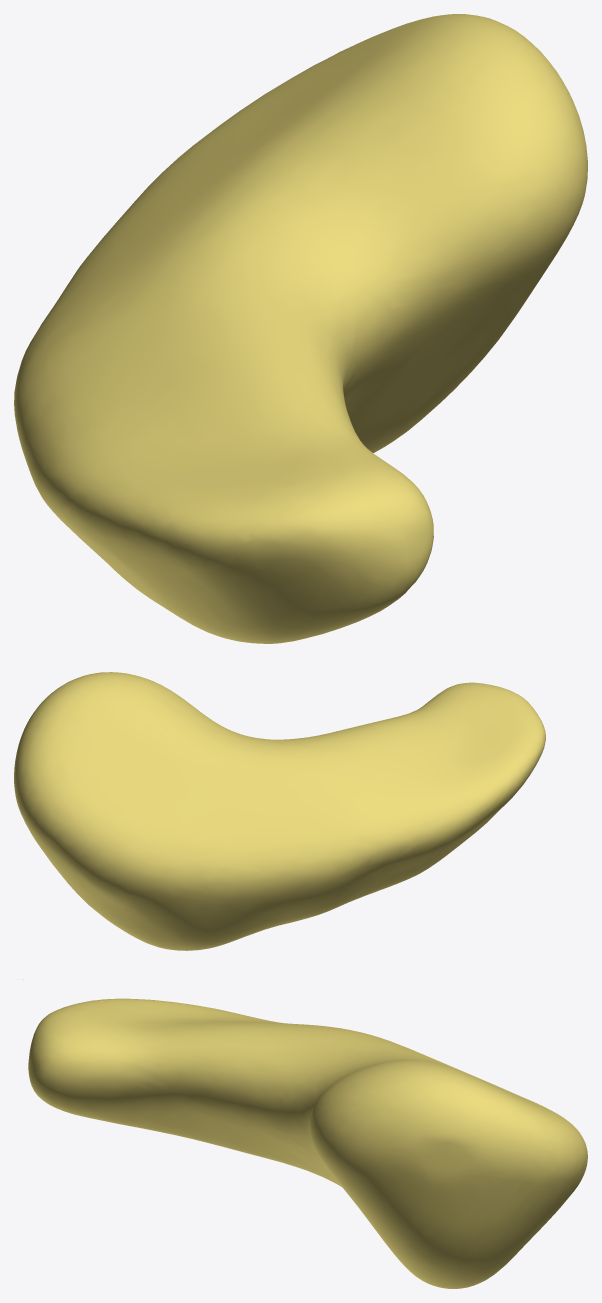
The model's file is inferior-semilunar-lobule-r.glb.
3 views of the same model, one above another, from view 1: azimuth 30°, elevation 25°; view 2: azimuth 150°, elevation 25°; view 3: azimuth 270°, elevation 25° (orthographic). The views are drawn at different scales.
Visible parts, largest first — view 1: Inferior semilunar lobule.r; view 2: Inferior semilunar lobule.r; view 3: Inferior semilunar lobule.r.
Boxes of the visible parts, left/top/right/bottom form: Inferior semilunar lobule.r: left=14, top=14, right=587, bottom=643; Inferior semilunar lobule.r: left=14, top=672, right=545, bottom=950; Inferior semilunar lobule.r: left=17, top=979, right=587, bottom=1288.
Size of the model in its own units: 0.0475 by 0.0285 by 0.0582.
